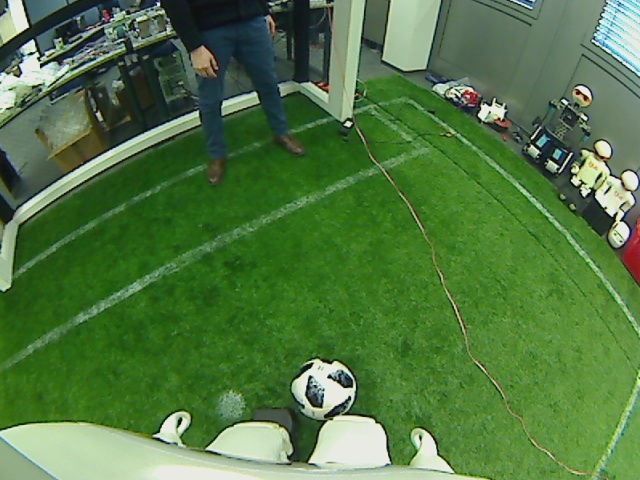ball: (288, 356, 360, 422)
